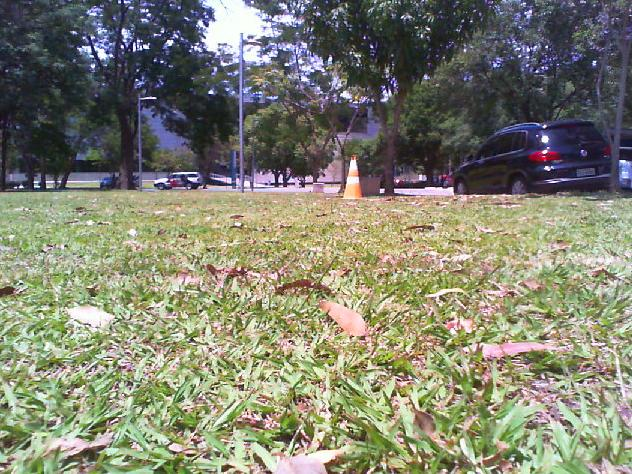0 cone: (341, 155, 366, 201)
